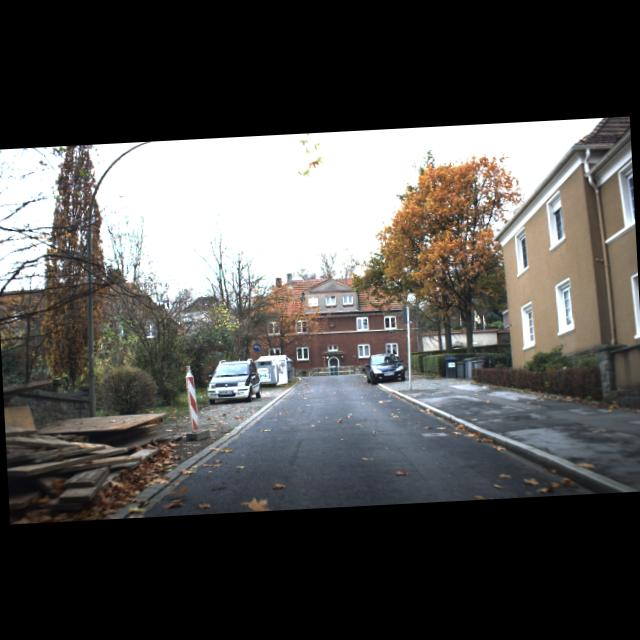mandatory: (253, 342, 262, 351)
